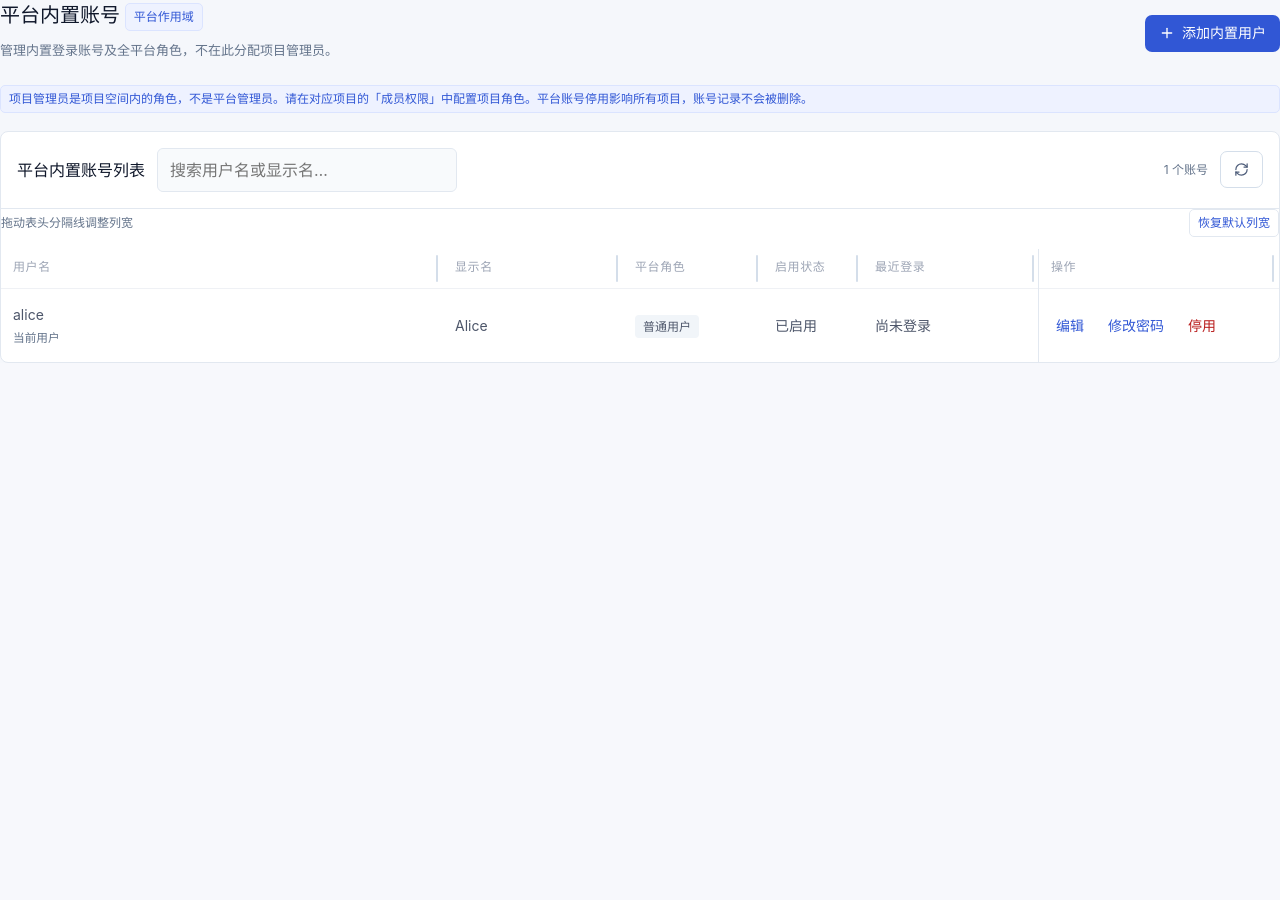
Test: opens a real password dialog directly from the current account row
Expected: the text "Alice" is shown, x1=443 y1=288 x2=623 y2=362
What coordinates should you click on to do the following:
click the button with aria-label "修改当前账号密码"
I would click on:
 (1136, 325)
Its box is x1=1103 y1=310 x2=1169 y2=341.
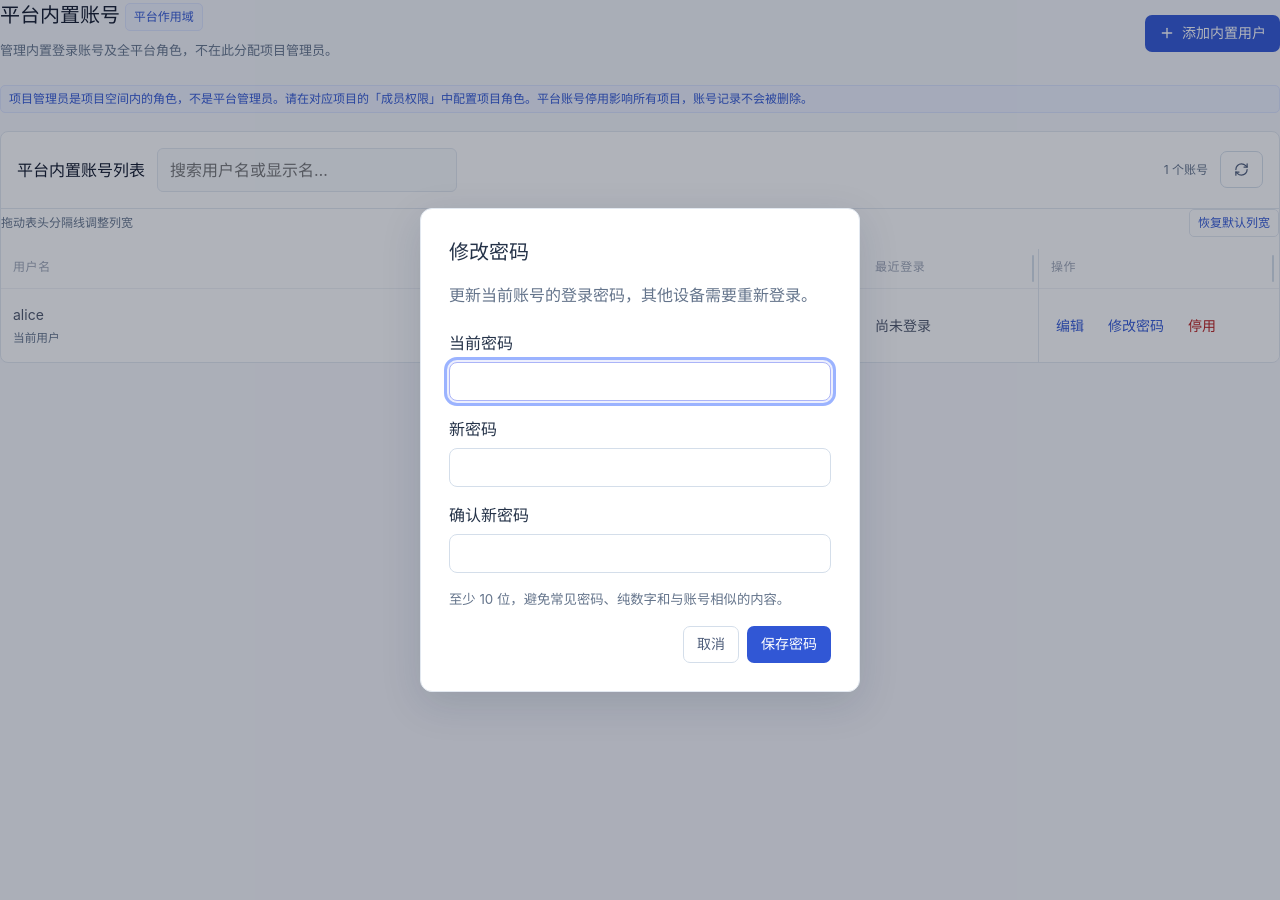
Expected: the password field labelled "当前密码" is enabled, x1=449 y1=362 x2=831 y2=401
Expected: the dialog "修改密码" is shown, x1=420 y1=208 x2=860 y2=692
